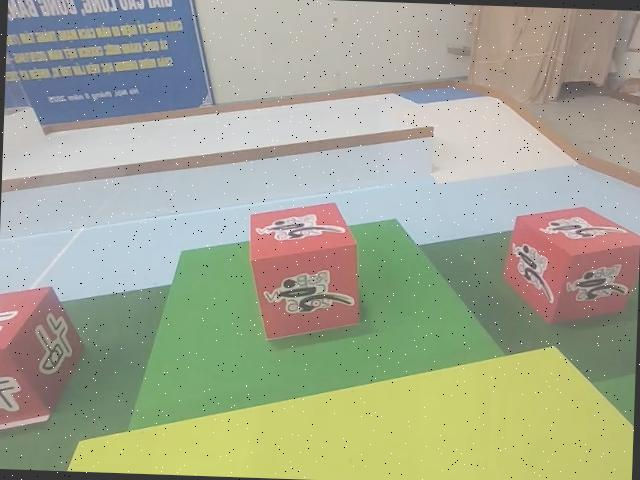R1: (241, 195, 372, 346), (498, 201, 640, 331)
R2 Real: (0, 282, 90, 438)
